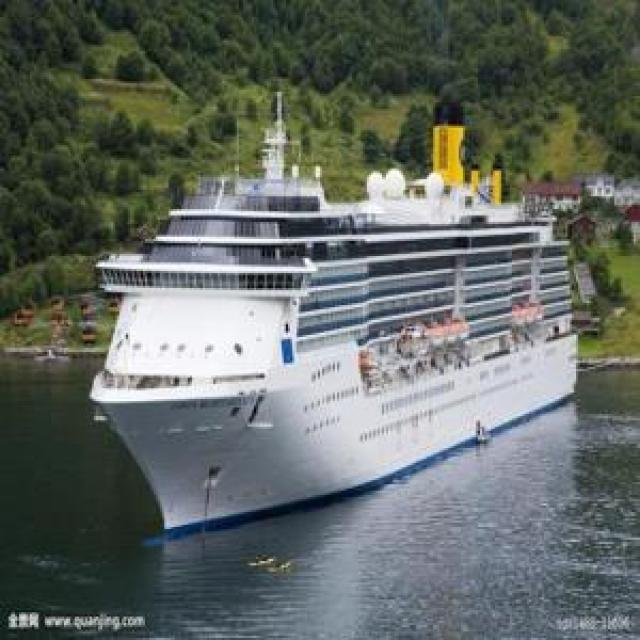passenger ship: (92, 162, 581, 521)
